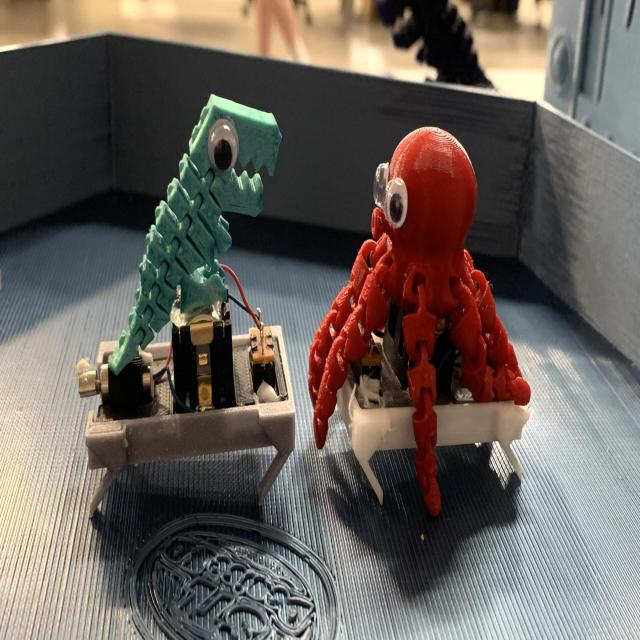Without deffect: (71, 71, 544, 518)
